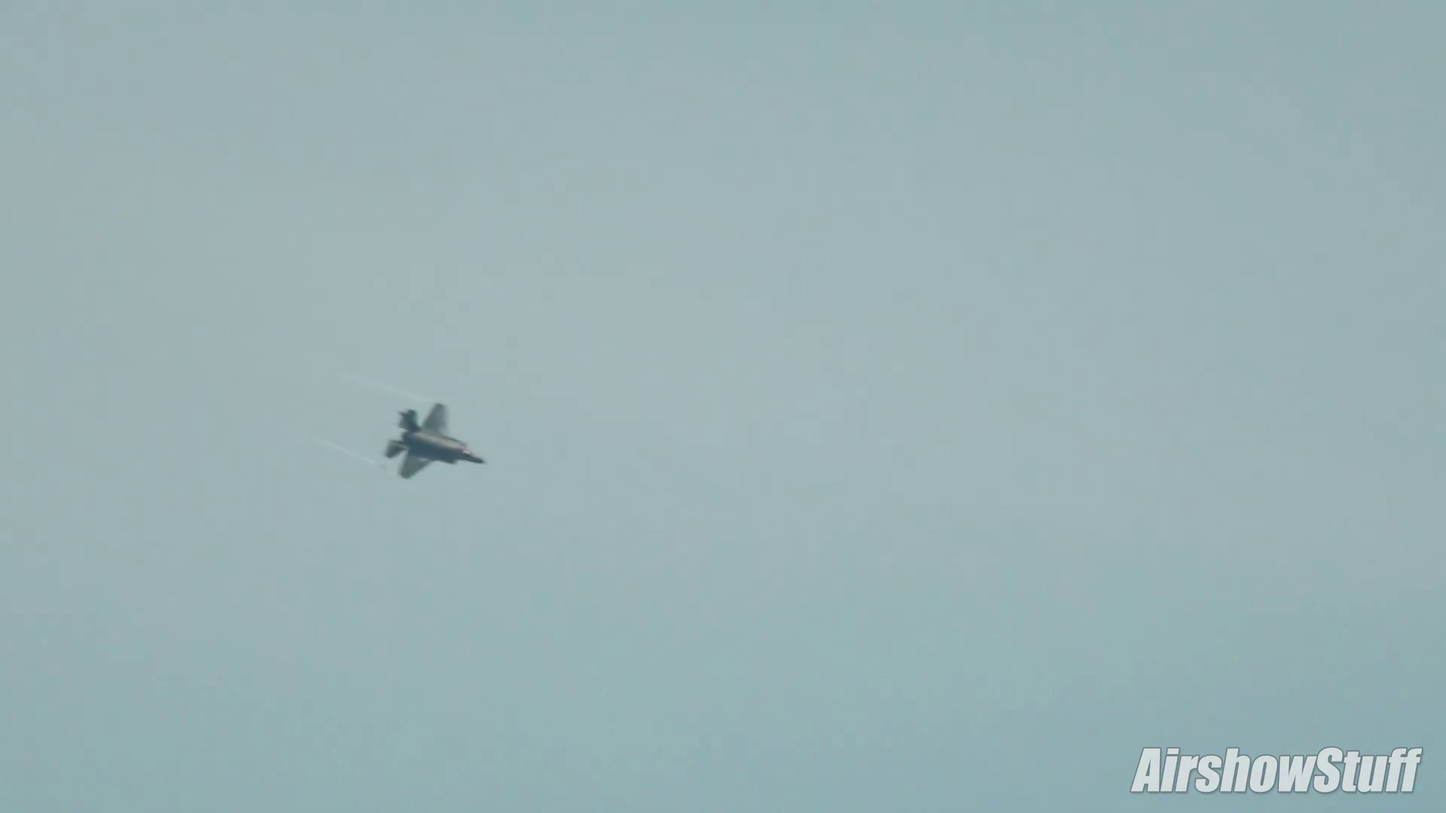F35: (378, 399, 490, 491)
